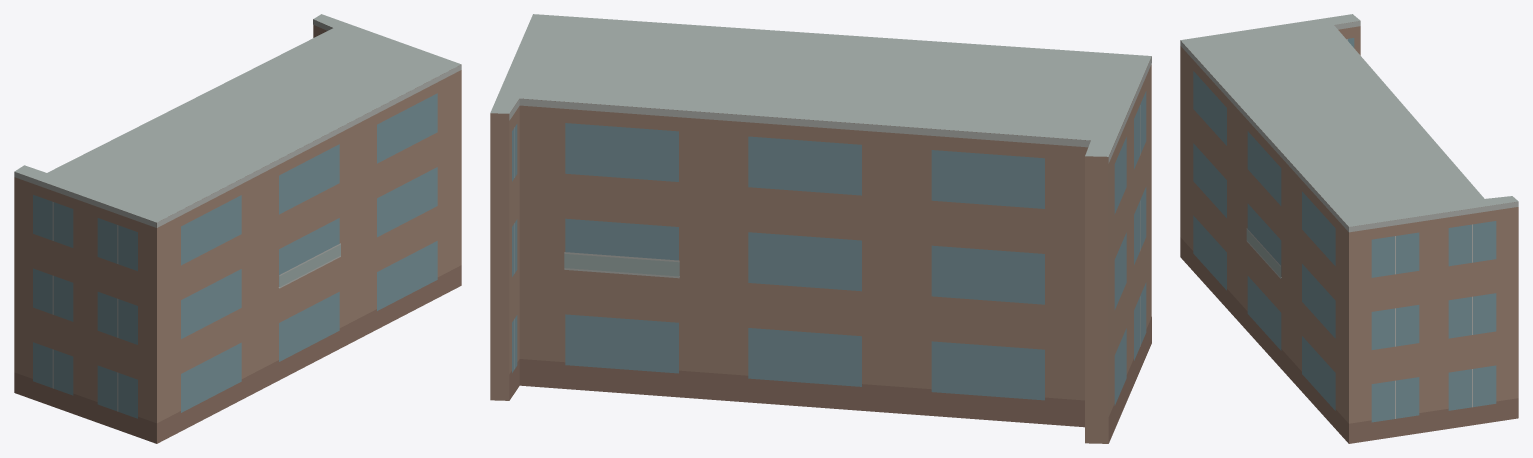
The model's file is survey-upis-32617427.glb.
3 views of the same model, side by side, from view 1: azimuth 30°, elevation 25°; view 2: azimuth 150°, elevation 25°; view 3: azimuth 270°, elevation 25° (orthographic). The views are drawn at different scales.
Visible parts, largest first — view 1: survey-upis-32617427.tmp; view 2: survey-upis-32617427.tmp; view 3: survey-upis-32617427.tmp.
Boxes of the visible parts, <box> form: survey-upis-32617427.tmp: <box>14,14,461,443</box>; survey-upis-32617427.tmp: <box>490,14,1151,443</box>; survey-upis-32617427.tmp: <box>1180,14,1518,443</box>.
Bounding box in the file's own units: 20.87 × 9.9 × 14.01.
